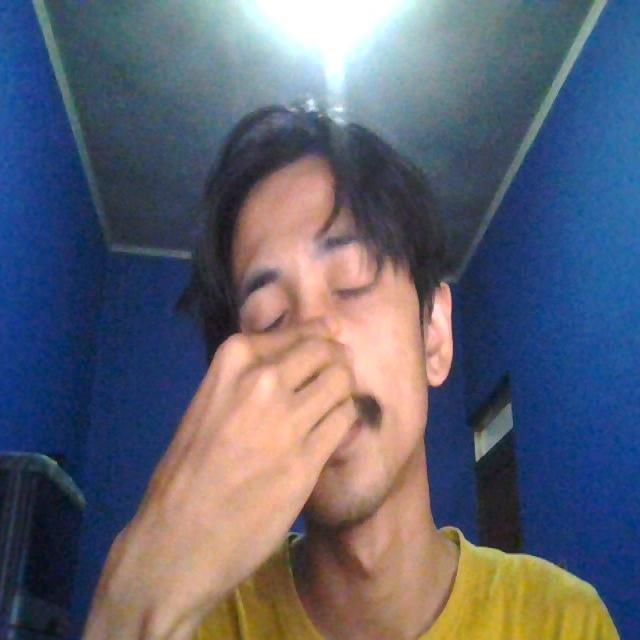movement: (166, 102, 472, 563)
